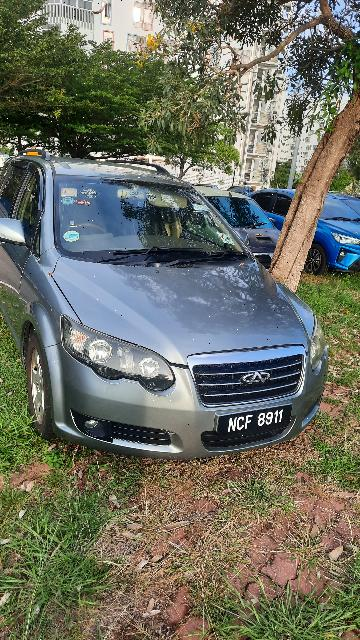License_Plate: (215, 401, 293, 435)
car: (2, 158, 333, 465)
